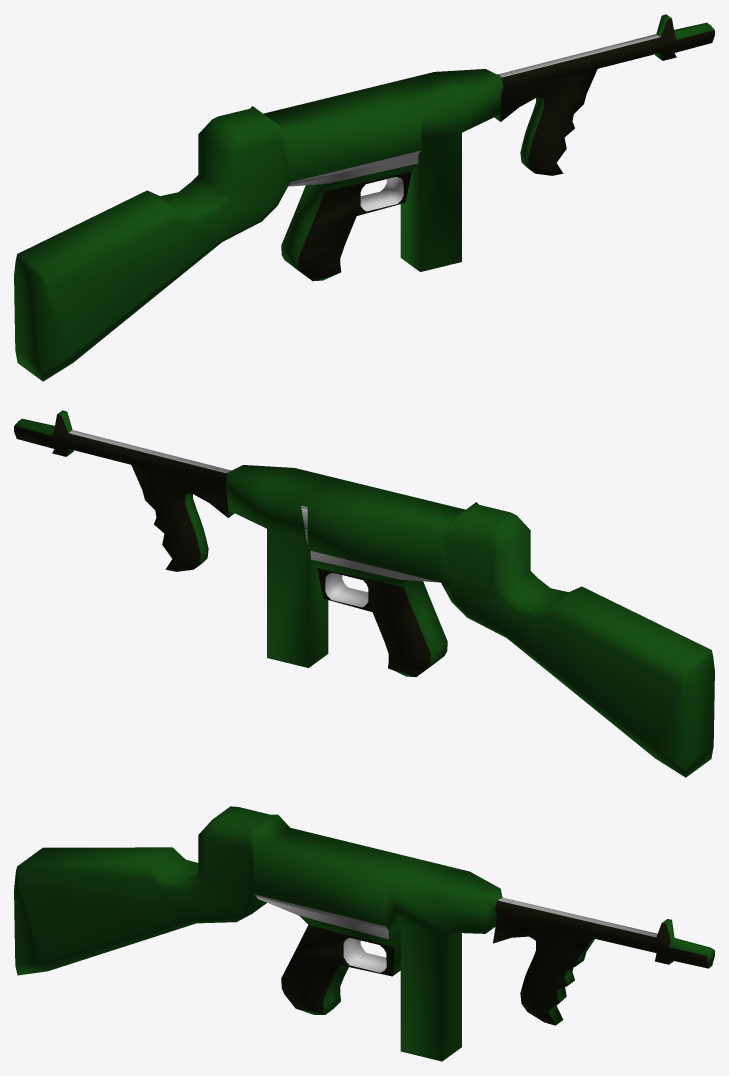
The model's file is fusil.obj.
3 views of the same model, one above another, from view 1: azimuth 30°, elevation 25°; view 2: azimuth 150°, elevation 25°; view 3: azimuth 330°, elevation 25° (orthographic).
Parts seen in each view (by area): view 1: subfusil; view 2: subfusil; view 3: subfusil.
Part boxes in pixels (x1,y1,x2,y2): subfusil: (14, 14, 714, 381); subfusil: (14, 410, 714, 777); subfusil: (14, 806, 714, 1061).
Size of the model in its own units: 1.36 by 0.382 by 0.1231.
